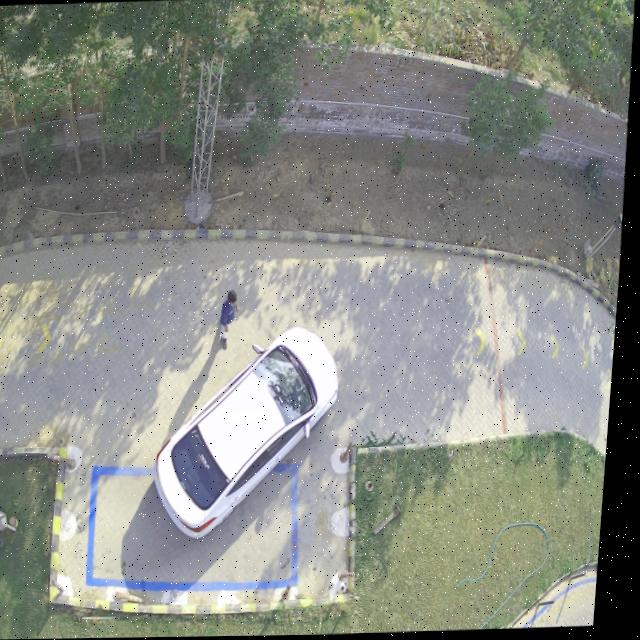car: (162, 328, 345, 540)
